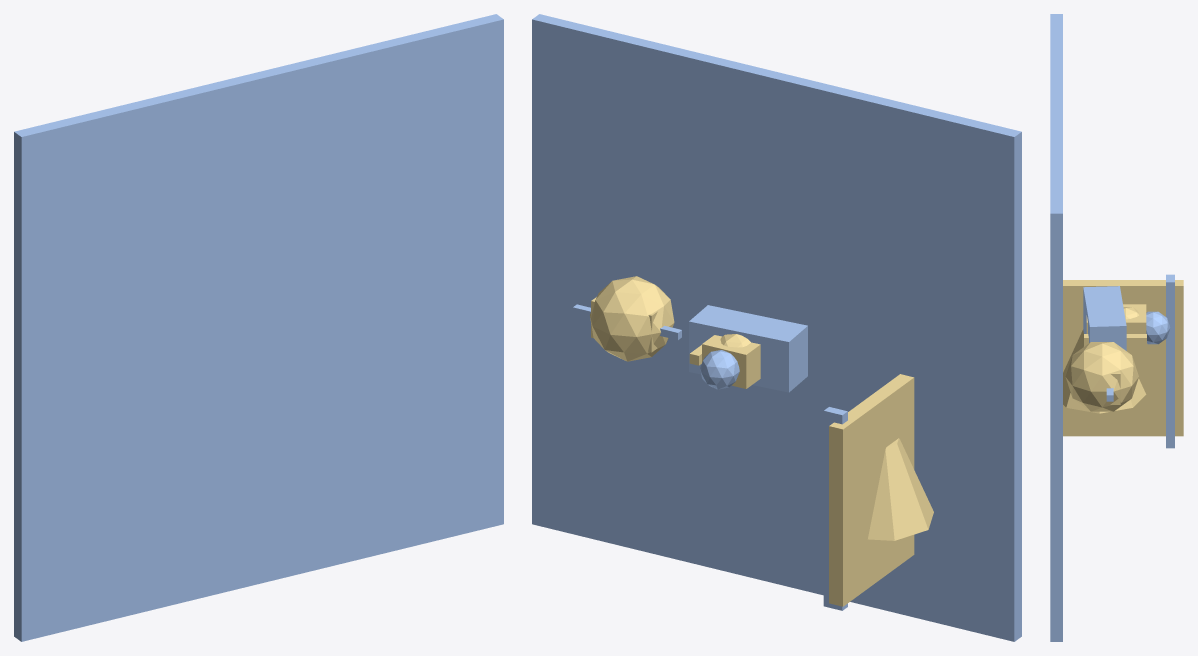
File: neon-breakout-kit.glb
3 views of the same model, side by side, from view 1: azimuth 30°, elevation 25°; view 2: azimuth 150°, elevation 25°; view 3: azimuth 270°, elevation 25° (orthographic). The views are drawn at different scales.
Visible parts, largest first — view 1: ENVIRONMENT_GROUND; view 2: ENVIRONMENT_GROUND, PROFILE_ENVIRONMENT_DETAIL, PLAYER_BODY, OBSTACLE, ENVIRONMENT_LANDMARK, PROFILE_ENVIRONMENT_TRIM, PROFILE_PLAYER_DETAIL, PROFILE_PLAYER_HEAD; view 3: PROFILE_ENVIRONMENT_DETAIL, ENVIRONMENT_GROUND, OBSTACLE, PLAYER_BODY, PROFILE_ENVIRONMENT_TRIM, ENVIRONMENT_LANDMARK, PROFILE_PLAYER_HEAD, PROFILE_PLAYER_DETAIL, PROFILE_PLAYER_TOOL.
Part boxes in pixels (<box>): ENVIRONMENT_GROUND: <box>14,14,503,641</box>; ENVIRONMENT_GROUND: <box>532,14,1021,641</box>; PROFILE_ENVIRONMENT_DETAIL: <box>829,374,914,606</box>; PLAYER_BODY: <box>689,305,807,392</box>; OBSTACLE: <box>590,276,674,361</box>; ENVIRONMENT_LANDMARK: <box>868,438,933,540</box>; PROFILE_ENVIRONMENT_TRIM: <box>823,407,847,610</box>; PROFILE_PLAYER_DETAIL: <box>702,335,760,388</box>; PROFILE_PLAYER_HEAD: <box>700,350,739,389</box>; PROFILE_ENVIRONMENT_DETAIL: <box>1063,280,1183,436</box>; ENVIRONMENT_GROUND: <box>1050,14,1062,641</box>; OBSTACLE: <box>1065,342,1138,411</box>; PLAYER_BODY: <box>1083,286,1126,350</box>; PROFILE_ENVIRONMENT_TRIM: <box>1166,274,1174,448</box>; ENVIRONMENT_LANDMARK: <box>1063,329,1146,413</box>; PROFILE_PLAYER_HEAD: <box>1146,311,1170,344</box>; PROFILE_PLAYER_DETAIL: <box>1086,304,1146,351</box>; PROFILE_PLAYER_TOOL: <box>1084,334,1146,346</box>.
Size of what is drawn, in the model's own units: 9 by 9 by 2.54.
